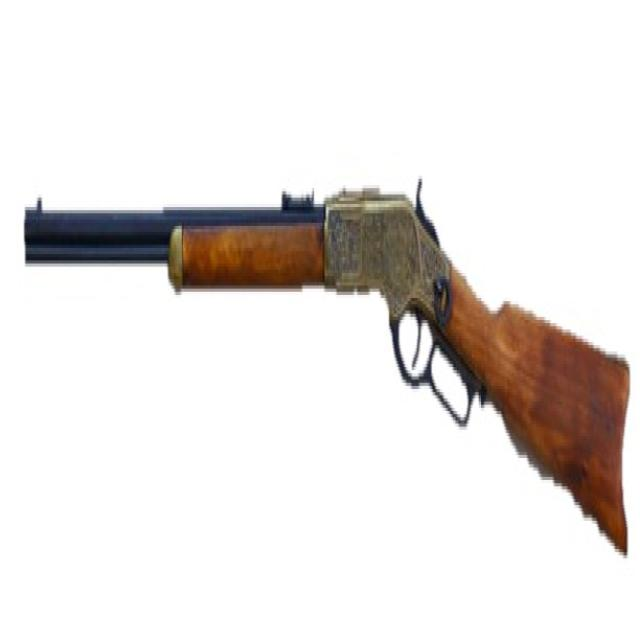rifle: (20, 178, 635, 568)
